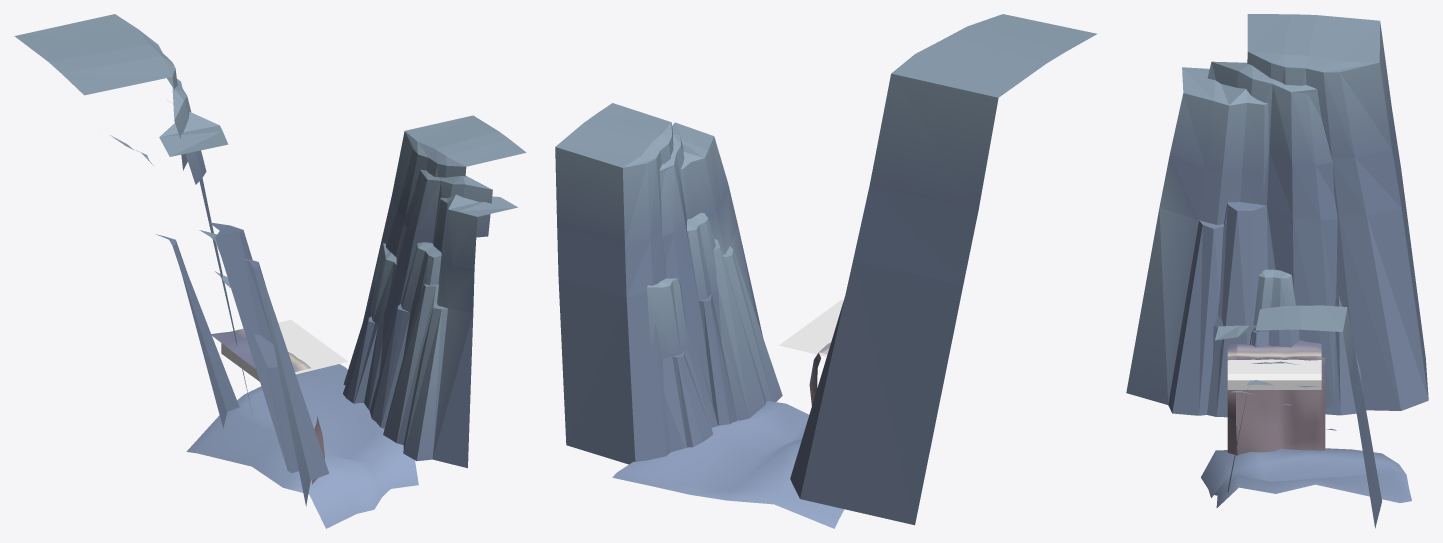
The model's file is Arctic_Narrows_Right_Straight_Short_B.glb.
3 views of the same model, side by side, from view 1: azimuth 30°, elevation 25°; view 2: azimuth 150°, elevation 25°; view 3: azimuth 270°, elevation 25° (orthographic). The views are drawn at different scales.
Visible parts, largest first — view 1: Arctic_Narrows_Left_IceWall_A01, Arctic_Narrows_Right_IceWall_A02 (2), Arctic_Narrows_Right_Straight_Short_A, Arctic_Narrows_Right_IceWall_A02_Mid, Arctic_Narrows_Right_IceWall_A02_Right, inv_fill, Arctic_Narrows_Right_IceWall_A02_Left; view 2: Arctic_Narrows_Right_IceWall_A02 (2), Arctic_Narrows_Left_IceWall_A01, Arctic_Narrows_Right_Straight_Short_A, Arctic_Narrows_Right_IceWall_A02_Mid, inv_fill; view 3: Arctic_Narrows_Right_IceWall_A02 (2), Arctic_Narrows_Right_Straight_Short_A, Arctic_Narrows_Left_IceWall_A01, inv_fill, Arctic_Narrows_Right_IceWall_A02_Left, Arctic_Narrows_Right_IceWall_A02_Right.
Boxes of the visible parts, x1,y1,x2,y2 form: Arctic_Narrows_Left_IceWall_A01: [343, 115, 526, 468]; Arctic_Narrows_Right_IceWall_A02 (2): [14, 14, 329, 506]; Arctic_Narrows_Right_Straight_Short_A: [186, 328, 418, 528]; Arctic_Narrows_Right_IceWall_A02_Mid: [343, 242, 441, 428]; Arctic_Narrows_Right_IceWall_A02_Right: [110, 135, 239, 428]; inv_fill: [221, 319, 348, 381]; Arctic_Narrows_Right_IceWall_A02_Left: [199, 230, 298, 473]; Arctic_Narrows_Right_IceWall_A02 (2): [790, 14, 1097, 525]; Arctic_Narrows_Left_IceWall_A01: [555, 103, 782, 464]; Arctic_Narrows_Right_Straight_Short_A: [612, 342, 844, 528]; Arctic_Narrows_Right_IceWall_A02_Mid: [647, 212, 737, 452]; inv_fill: [779, 300, 843, 356]; Arctic_Narrows_Right_IceWall_A02 (2): [1126, 14, 1428, 417]; Arctic_Narrows_Right_Straight_Short_A: [1201, 340, 1411, 507]; Arctic_Narrows_Left_IceWall_A01: [1215, 305, 1381, 528]; inv_fill: [1227, 359, 1321, 389]; Arctic_Narrows_Right_IceWall_A02_Left: [1213, 269, 1299, 359]; Arctic_Narrows_Right_IceWall_A02_Right: [1325, 295, 1363, 415].
Bounding box in the file's own units: 22.43 × 22.33 × 16.1.
